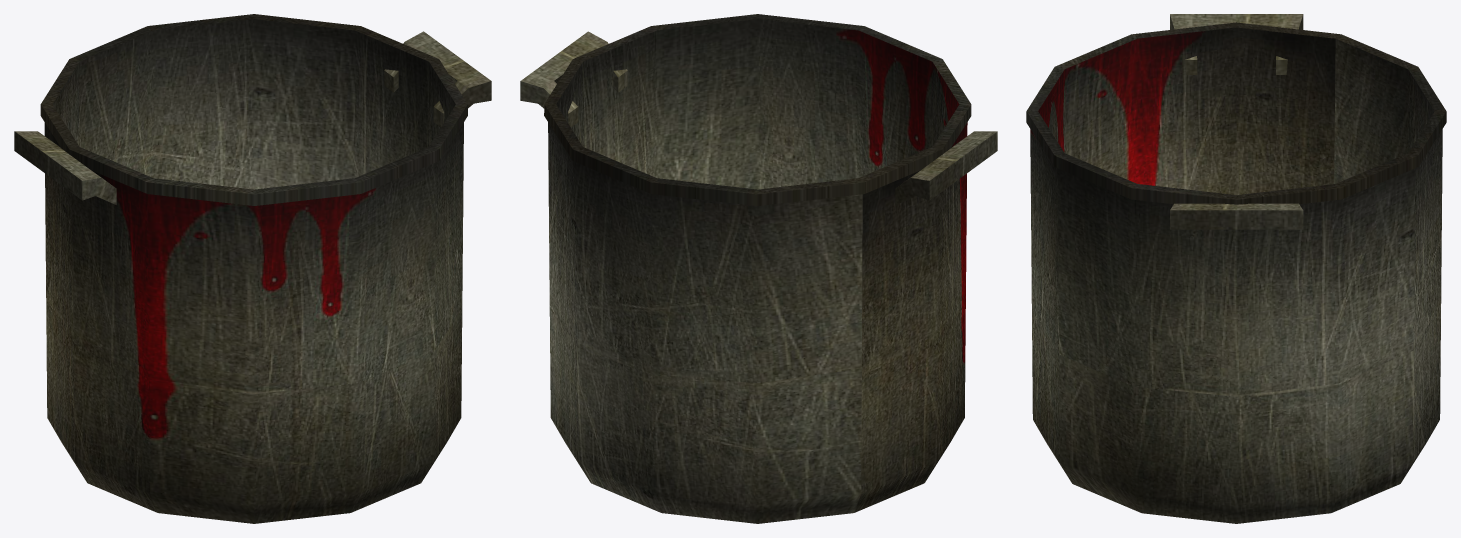
Rendered from Pot-Big.FBX.
The picture shows the model from 3 angles, left to right: view 1: azimuth 30°, elevation 25°; view 2: azimuth 150°, elevation 25°; view 3: azimuth 270°, elevation 25°; orthographic projection.
Parts seen in each view (by area): view 1: Sphere002; view 2: Sphere002; view 3: Sphere002.
Boxes of the visible parts, bbox=[...] form: Sphere002: bbox=[14, 14, 491, 523]; Sphere002: bbox=[520, 14, 997, 523]; Sphere002: bbox=[1026, 14, 1446, 523].
Bounding box in the file's own units: 27.38 × 23.06 × 24.76.
